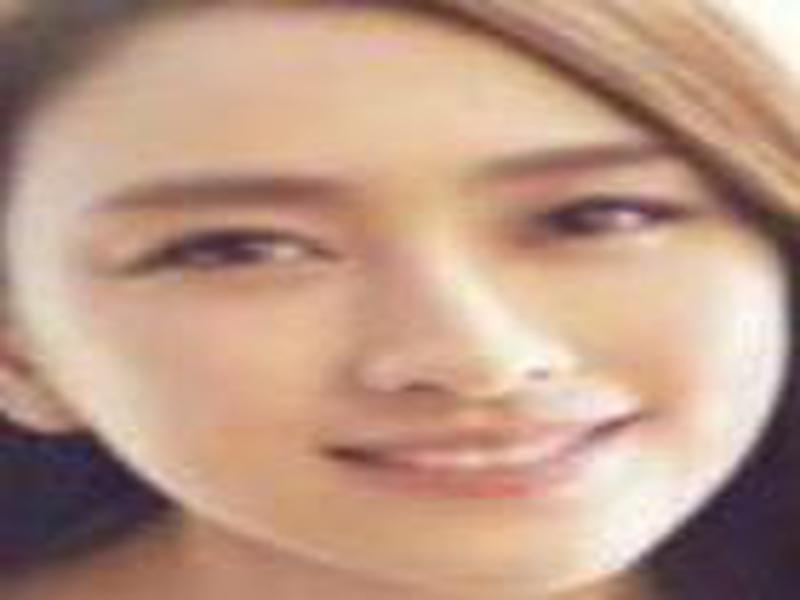without_mask: (63, 40, 740, 578)
